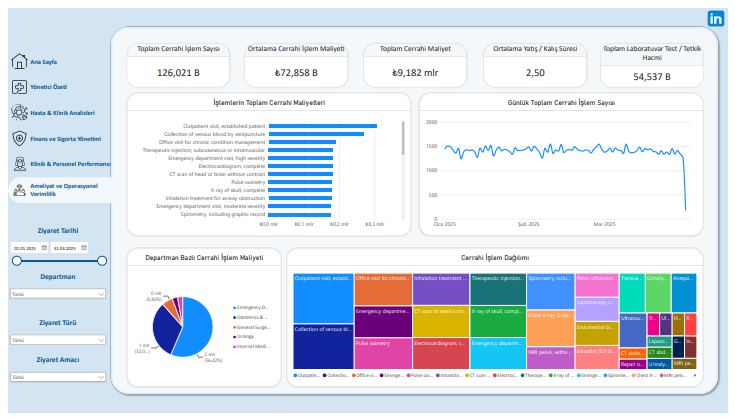

What the dashboard file says about the page in this screenshot:
{"tool":"powerbi","page":{"name":"Ameliyat ve Operasyonel Verimlilik","canvas":[1920,1080],"ordinal":5},"visuals":[{"type":"shape","box":[267.1,41.4,1635.7,995.7],"z":0},{"type":"actionButton","title":"Yönetici Özeti","box":[0,177.1,290,68.6],"z":1000},{"type":"image","box":[0,184.3,61.4,52.9],"z":2000},{"type":"actionButton","title":"Yönetici Özeti","box":[0,108.6,254.3,68.6],"z":3000},{"type":"image","box":[5.7,120,50,44.3],"z":4000},{"type":"actionButton","title":"Yönetici Özeti","box":[0,245.7,290,68.6],"z":5000},{"type":"image","box":[5.7,257.1,50,44.3],"z":6000},{"type":"actionButton","title":"Yönetici Özeti","box":[0,314.3,290,68.6],"z":7000},{"type":"image","box":[5.7,325.7,50,44.3],"z":8000},{"type":"actionButton","title":"Yönetici Özeti","box":[0,382.9,290,68.6],"z":9000},{"type":"image","box":[5.7,394.3,50,44.3],"z":10000},{"type":"actionButton","title":"Yönetici Özeti","box":[0,451.4,317.1,68.6],"z":11000},{"type":"image","box":[5.7,462.9,50,44.3],"z":12000},{"type":"image","box":[1854.3,0,65.7,55.7],"z":13000},{"type":"slicer","title":"Ziyaret Tarihi","fields":{"Values":["encounters.visit_date"]},"box":[0,580,267.1,122.9],"z":14000},{"type":"slicer","title":"Departman","fields":{"Values":["encounters.department"]},"box":[0,702.9,267.1,122.9],"z":15000},{"type":"slicer","title":"Ziyaret Türü","fields":{"Values":["encounters.visit_type"]},"box":[0,825.7,267.1,122.9],"z":16000},{"type":"slicer","title":"Ziyaret Amacı","fields":{"Values":["encounters.admission_type"]},"box":[0,925.7,267.1,122.9],"z":17000},{"type":"cardVisual","title":"Toplam Cerrahi İşlem Sayısı","fields":{"Data":["procedures.Toplam_Prosedur_Sayisi"]},"box":[317.1,94.3,274.3,117.1],"z":18000},{"type":"cardVisual","title":"Ortalama Cerrahi İşlem Maliyeti","fields":{"Data":["procedures.Ortalama_Prosedur_Maliyeti"]},"box":[631.4,94.3,274.3,117.1],"z":18001},{"type":"cardVisual","title":"Toplam Laboratuvar Test / Tetkik Hacmi","fields":{"Data":["lab_tests.Toplam_Test_Sayisi"]},"box":[1580,94.3,274.3,117.1],"z":18002},{"type":"cardVisual","title":"Ortalama Yatış / Kalış Süresi","fields":{"Data":["encounters.Ortalama_Yatis_Suresi"]},"box":[1268.6,94.3,274.3,117.1],"z":18003},{"type":"cardVisual","title":"Toplam Cerrahi Maliyet","fields":{"Data":["procedures.Toplam_Cerrahi_Maliyet"]},"box":[948.6,94.3,274.3,117.1],"z":18004},{"type":"clusteredBarChart","title":"İşlemlerin Toplam Cerrahi Maliyetleri","fields":{"Category":["procedures.procedure_description"],"Y":["procedures.Toplam_Cerrahi_Maliyet"]},"box":[316.6,226.1,758.6,381.4],"z":18005},{"type":"lineChart","title":"Günlük Toplam Cerrahi İşlem Sayısı","fields":{"Category":["procedures.procedure_date.Varyasyon.Tarih Hiyerarşisi.Yıl","procedures.procedure_date.Varyasyon.Tarih Hiyerarşisi.Ay","procedures.procedure_date.Varyasyon.Tarih Hiyerarşisi.Gün"],"Y":["procedures.Toplam_Prosedur_Sayisi"]},"box":[1097.1,225.7,757.1,381.4],"z":18006},{"type":"pieChart","title":"Departman Bazlı Cerrahi İşlem Maliyeti","fields":{"Category":["encounters.department"],"Y":["Sum(procedures.procedure_cost)"]},"box":[317.1,640,411.4,370],"z":18007},{"type":"treemap","title":"Cerrahi İşlem Dağılımı","fields":{"Group":["procedures.procedure_description"],"Values":["CountNonNull(procedures.encounter_id)"]},"box":[742.9,640,1111.4,370],"z":18008}]}

Visuals, with their boxes on the page's 1920x1080 design canvas (x1, y1, x2, y2). These are canvas units, not pixel positions in the 735x420 screenshot, which may show the page scaled, cropped or inside an application window:
shape: 267 41 1903 1037
"Yönetici Özeti" actionButton: 0 177 290 246
image: 0 184 61 237
"Yönetici Özeti" actionButton: 0 109 254 177
image: 6 120 56 164
"Yönetici Özeti" actionButton: 0 246 290 314
image: 6 257 56 301
"Yönetici Özeti" actionButton: 0 314 290 383
image: 6 326 56 370
"Yönetici Özeti" actionButton: 0 383 290 452
image: 6 394 56 439
"Yönetici Özeti" actionButton: 0 451 317 520
image: 6 463 56 507
image: 1854 0 1920 56
"Ziyaret Tarihi" slicer: 0 580 267 703
"Departman" slicer: 0 703 267 826
"Ziyaret Türü" slicer: 0 826 267 949
"Ziyaret Amacı" slicer: 0 926 267 1049
"Toplam Cerrahi İşlem Sayısı" cardVisual: 317 94 591 211
"Ortalama Cerrahi İşlem Maliyeti" cardVisual: 631 94 906 211
"Toplam Laboratuvar Test / Tetkik Hacmi" cardVisual: 1580 94 1854 211
"Ortalama Yatış / Kalış Süresi" cardVisual: 1269 94 1543 211
"Toplam Cerrahi Maliyet" cardVisual: 949 94 1223 211
"İşlemlerin Toplam Cerrahi Maliyetleri" clusteredBarChart: 317 226 1075 608
"Günlük Toplam Cerrahi İşlem Sayısı" lineChart: 1097 226 1854 607
"Departman Bazlı Cerrahi İşlem Maliyeti" pieChart: 317 640 728 1010
"Cerrahi İşlem Dağılımı" treemap: 743 640 1854 1010
